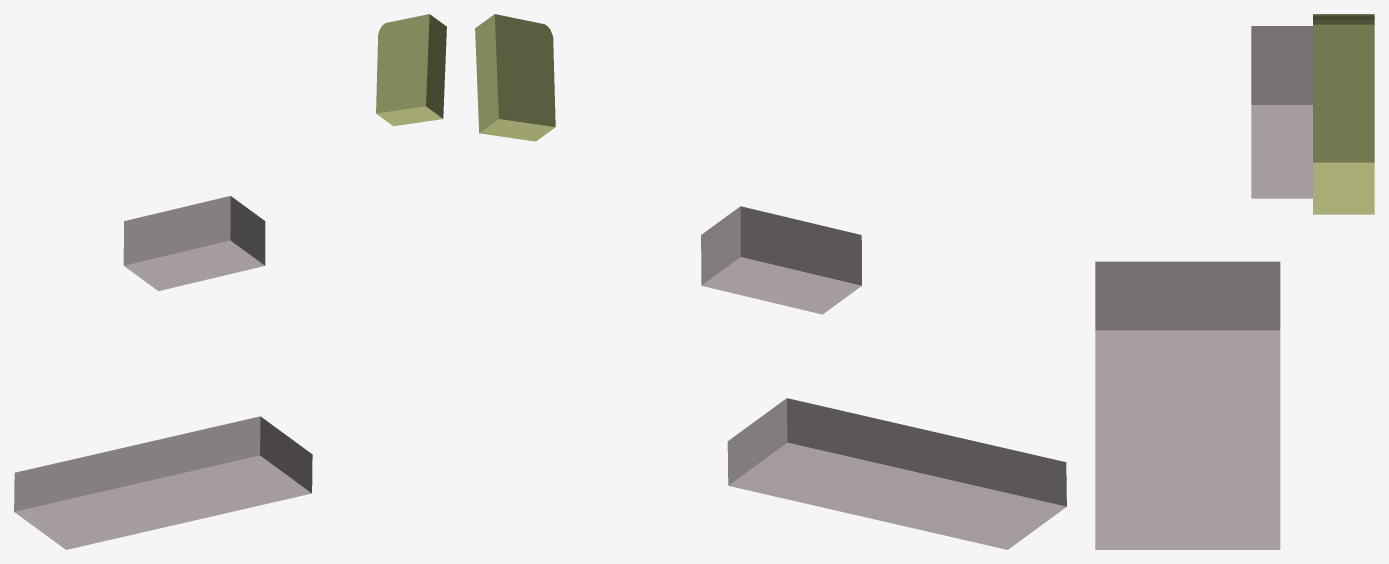
3 views of the same model, side by side, from view 1: azimuth 30°, elevation 25°; view 2: azimuth 150°, elevation 25°; view 3: azimuth 270°, elevation 25° (orthographic). The views are drawn at different scales.
Visible parts, largest first — view 1: 0_0_1_3_2_2_2_3; view 2: 0_0_1_3_2_2_2_3; view 3: 0_0_1_3_2_2_2_3.
Boxes of the visible parts, x1=… form: 0_0_1_3_2_2_2_3: x1=14, y1=14, x2=446, y2=549; 0_0_1_3_2_2_2_3: x1=475, y1=14, x2=1066, y2=549; 0_0_1_3_2_2_2_3: x1=1095, y1=14, x2=1374, y2=549.
Bounding box in the file's own units: 88.25 × 71.67 × 27.2.
